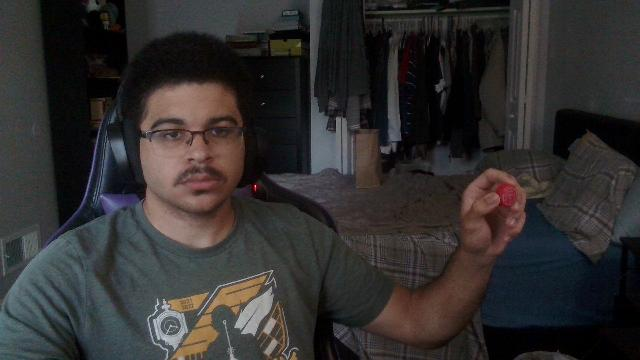cap: (496, 183, 518, 207)
